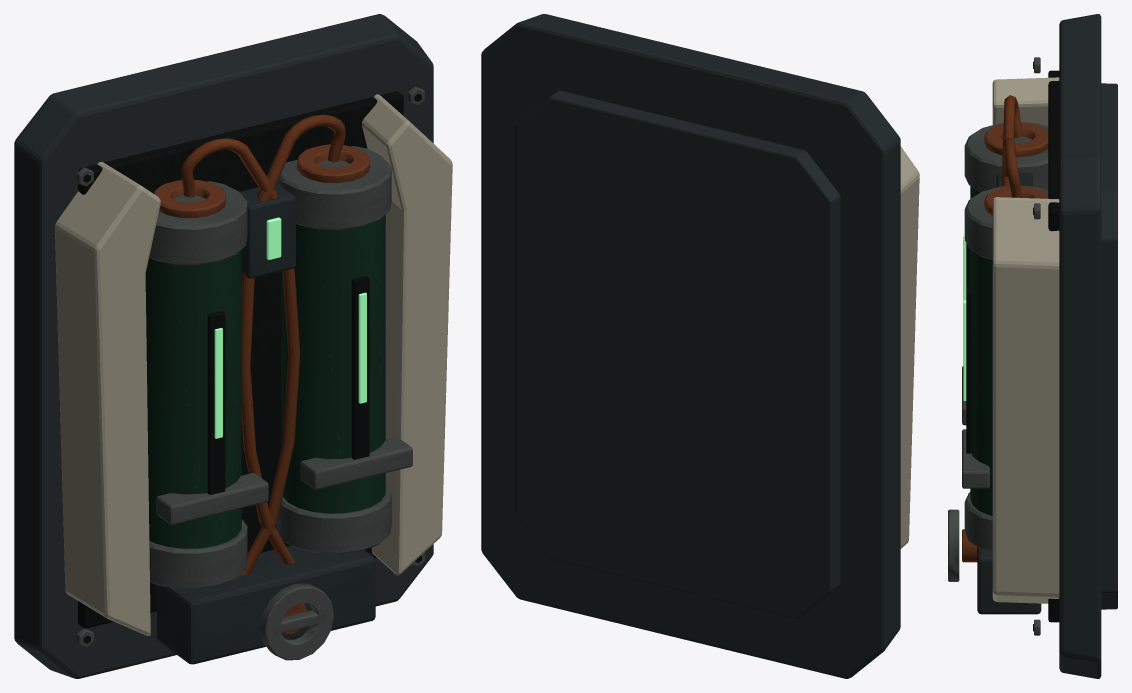
File: omnivamp.glb
3 renders of one model, left to right at view 1: azimuth 30°, elevation 25°; view 2: azimuth 150°, elevation 25°; view 3: azimuth 270°, elevation 25°, orthographic. The views are drawn at different scales.
Parts seen in each view (by area): view 1: steel, ivory, jade, edge, rubber, copper, green; view 2: steel, ivory; view 3: steel, ivory, edge, jade, copper, rubber, green.
Boxes of the visible parts, x1,y1,x2,y2 form: steel: [14, 14, 433, 678]; ivory: [55, 94, 452, 635]; jade: [145, 215, 385, 548]; edge: [76, 86, 424, 660]; rubber: [78, 91, 421, 643]; copper: [153, 114, 370, 634]; green: [214, 217, 366, 438]; steel: [481, 14, 900, 678]; ivory: [900, 146, 919, 548]; steel: [977, 14, 1117, 678]; ivory: [992, 77, 1059, 603]; edge: [948, 57, 1048, 635]; jade: [970, 186, 992, 515]; copper: [962, 95, 1048, 562]; rubber: [966, 61, 1059, 631]; green: [963, 236, 966, 400].
Bounding box in the file's own units: 0.1516 × 0.2066 × 0.061.
Materials: 7 (6 with a texture image).
